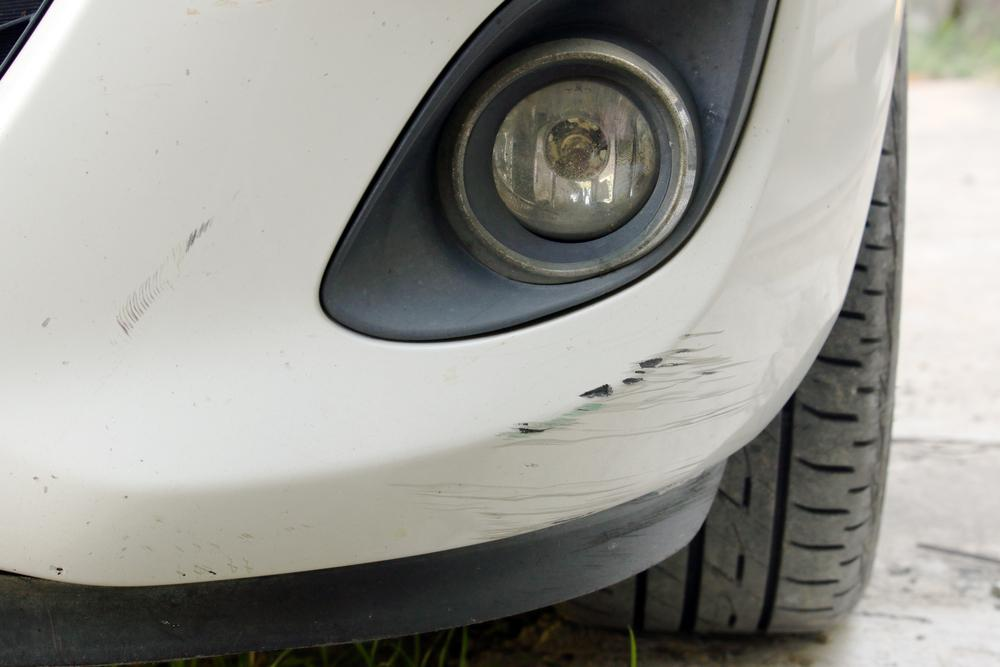scratch: (395, 316, 766, 533)
